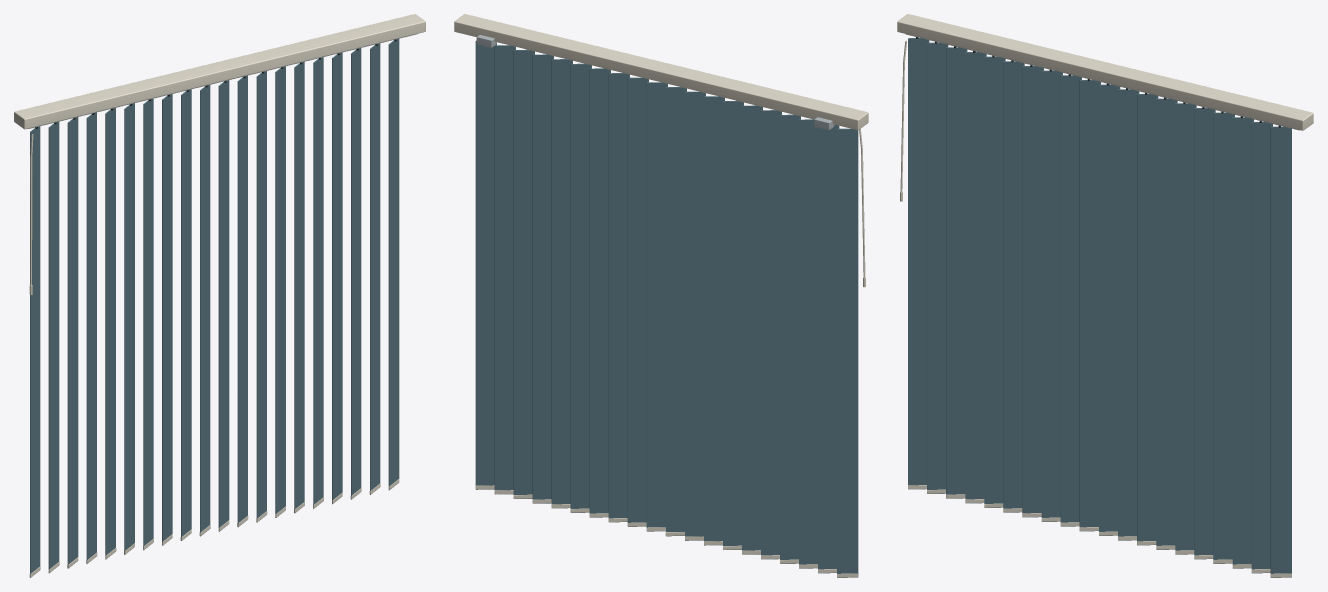
File: vertical-patio-door-blinds.glb
The picture shows the model from 3 angles, left to right: view 1: azimuth 30°, elevation 25°; view 2: azimuth 150°, elevation 25°; view 3: azimuth 330°, elevation 25°; orthographic projection.
Parts seen in each view (by area): view 1: vertical-patio-door-blinds authored assembly; view 2: vertical-patio-door-blinds authored assembly; view 3: vertical-patio-door-blinds authored assembly.
Part boxes in pixels (<box>): vertical-patio-door-blinds authored assembly: <box>14,14,425,577</box>; vertical-patio-door-blinds authored assembly: <box>454,14,868,577</box>; vertical-patio-door-blinds authored assembly: <box>897,14,1313,577</box>.
Bounding box in the file's own units: 2 × 2.2 × 0.135.
